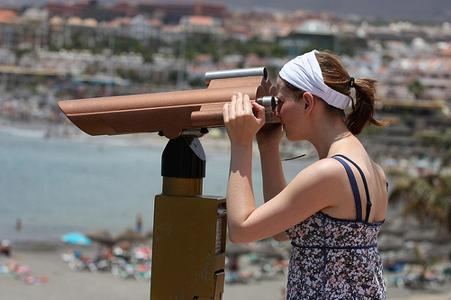person: (223, 51, 390, 300)
